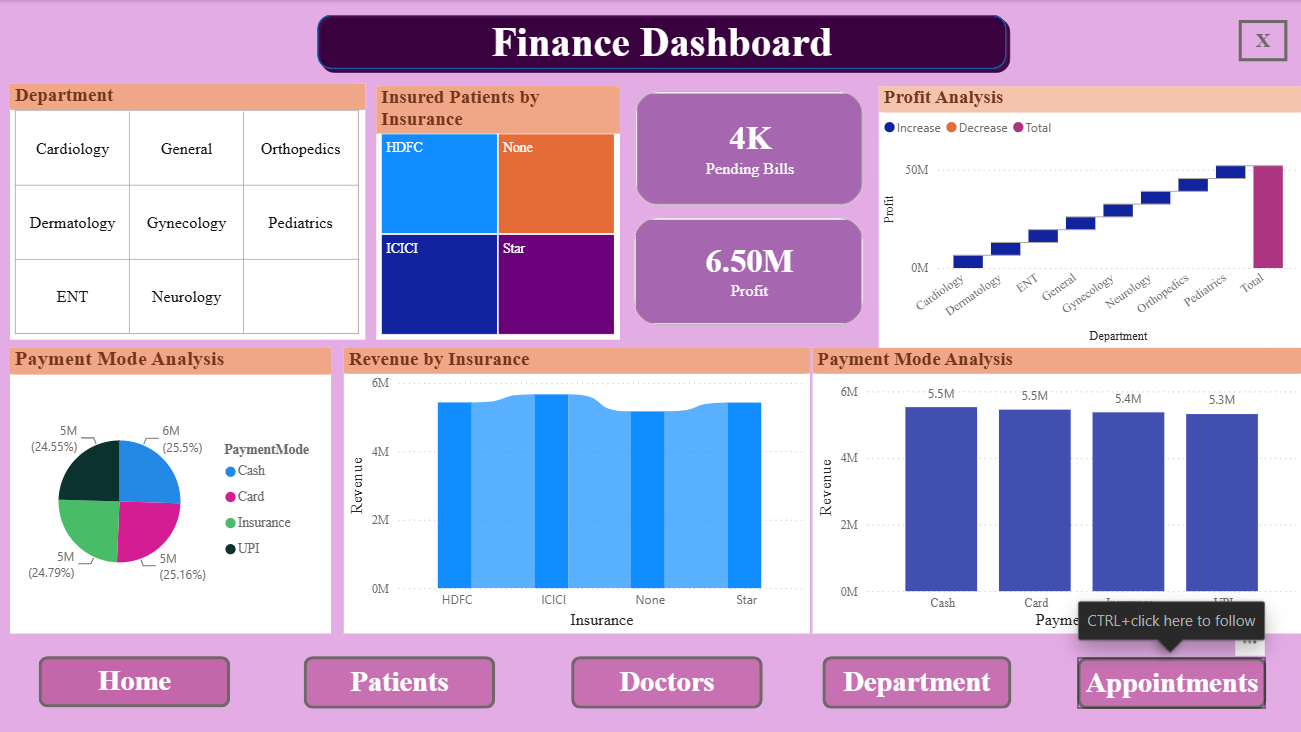

This screenshot's page, from the dashboard's own definition file:
{"tool":"powerbi","page":{"name":"Financial Dashboard","canvas":[1280,720],"ordinal":5},"visuals":[{"type":"shape","box":[306.8,9.8,685.9,62.6],"z":0},{"type":"pieChart","title":"Payment Mode Analysis","fields":{"Category":["Billing.PaymentMode"],"Y":["Sum(Billing.Total)"]},"box":[9.8,341.1,315.3,281],"z":1000},{"type":"columnChart","title":"Payment Mode Analysis","fields":{"Category":["Billing.PaymentMode"],"Y":["Patients.Revenue"]},"box":[797.6,341.1,482.2,281],"z":2000},{"type":"waterfallChart","title":"Profit Analysis","fields":{"Category":["Appointments.Department"],"Y":["Appointments.Profit"]},"box":[862.6,84.7,417.2,256.4],"z":3000},{"type":"treemap","fields":{"Group":["Patients.Insurance"],"Values":["Appointments.Insured Patients"]},"box":[369.3,84.7,239.3,249.1],"z":4000},{"type":"ribbonChart","fields":{"Category":["Appointments.Department","Patients.Insurance"],"Y":["Patients.Revenue"]},"box":[337.4,341.1,457.7,281],"z":5000},{"type":"advancedSlicerVisual","fields":{"Values":["Appointments.Department"]},"box":[9.8,82.2,348.5,251.5],"z":6000},{"type":"cardVisual","fields":{"Data":["Appointments.Profit"]},"box":[617.2,208.6,235.6,115.3],"z":7000},{"type":"cardVisual","fields":{"Data":["Appointments.Pending Bills"]},"box":[618.4,84.7,234.4,122.7],"z":8000},{"type":"actionButton","box":[37.6,644.2,187.8,50.1],"z":9000},{"type":"actionButton","box":[297.7,644.2,187.8,51.5],"z":10000},{"type":"actionButton","box":[560.7,644.2,187.8,51.5],"z":11000},{"type":"actionButton","box":[1057.7,645.4,185.3,50.3],"z":12000},{"type":"actionButton","box":[807.4,644.2,185.3,51.5],"z":13000},{"type":"actionButton","title":"Clear","box":[1216.1,20.2,47.7,40.5],"z":14000}]}

Visuals, with their boxes in screenshot pixels (x1, y1, x2, y2), scaled from the page's 1280x720 canvas onto the 1301x732 screenshot:
shape: bbox(312, 10, 1009, 74)
"Payment Mode Analysis" pieChart: bbox(10, 347, 330, 632)
"Payment Mode Analysis" columnChart: bbox(811, 347, 1300, 632)
"Profit Analysis" waterfallChart: bbox(877, 86, 1300, 347)
treemap - Patients.Insurance x Appointments.Insured Patients: bbox(375, 86, 619, 339)
ribbonChart - Appointments.Department x Patients.Insurance: bbox(343, 347, 808, 632)
advancedSlicerVisual - Appointments.Department: bbox(10, 84, 364, 339)
cardVisual - Appointments.Profit: bbox(627, 212, 867, 329)
cardVisual - Appointments.Pending Bills: bbox(629, 86, 867, 211)
actionButton: bbox(38, 655, 229, 706)
actionButton: bbox(303, 655, 493, 707)
actionButton: bbox(570, 655, 761, 707)
actionButton: bbox(1075, 656, 1263, 707)
actionButton: bbox(821, 655, 1009, 707)
"Clear" actionButton: bbox(1236, 21, 1285, 62)
